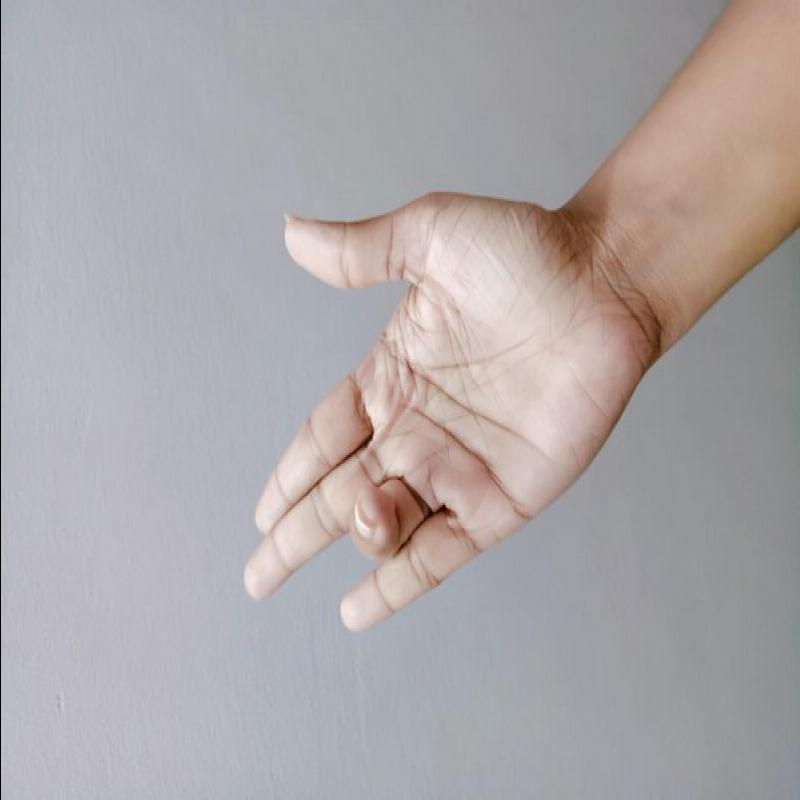Pathaaka: (230, 183, 662, 644)
